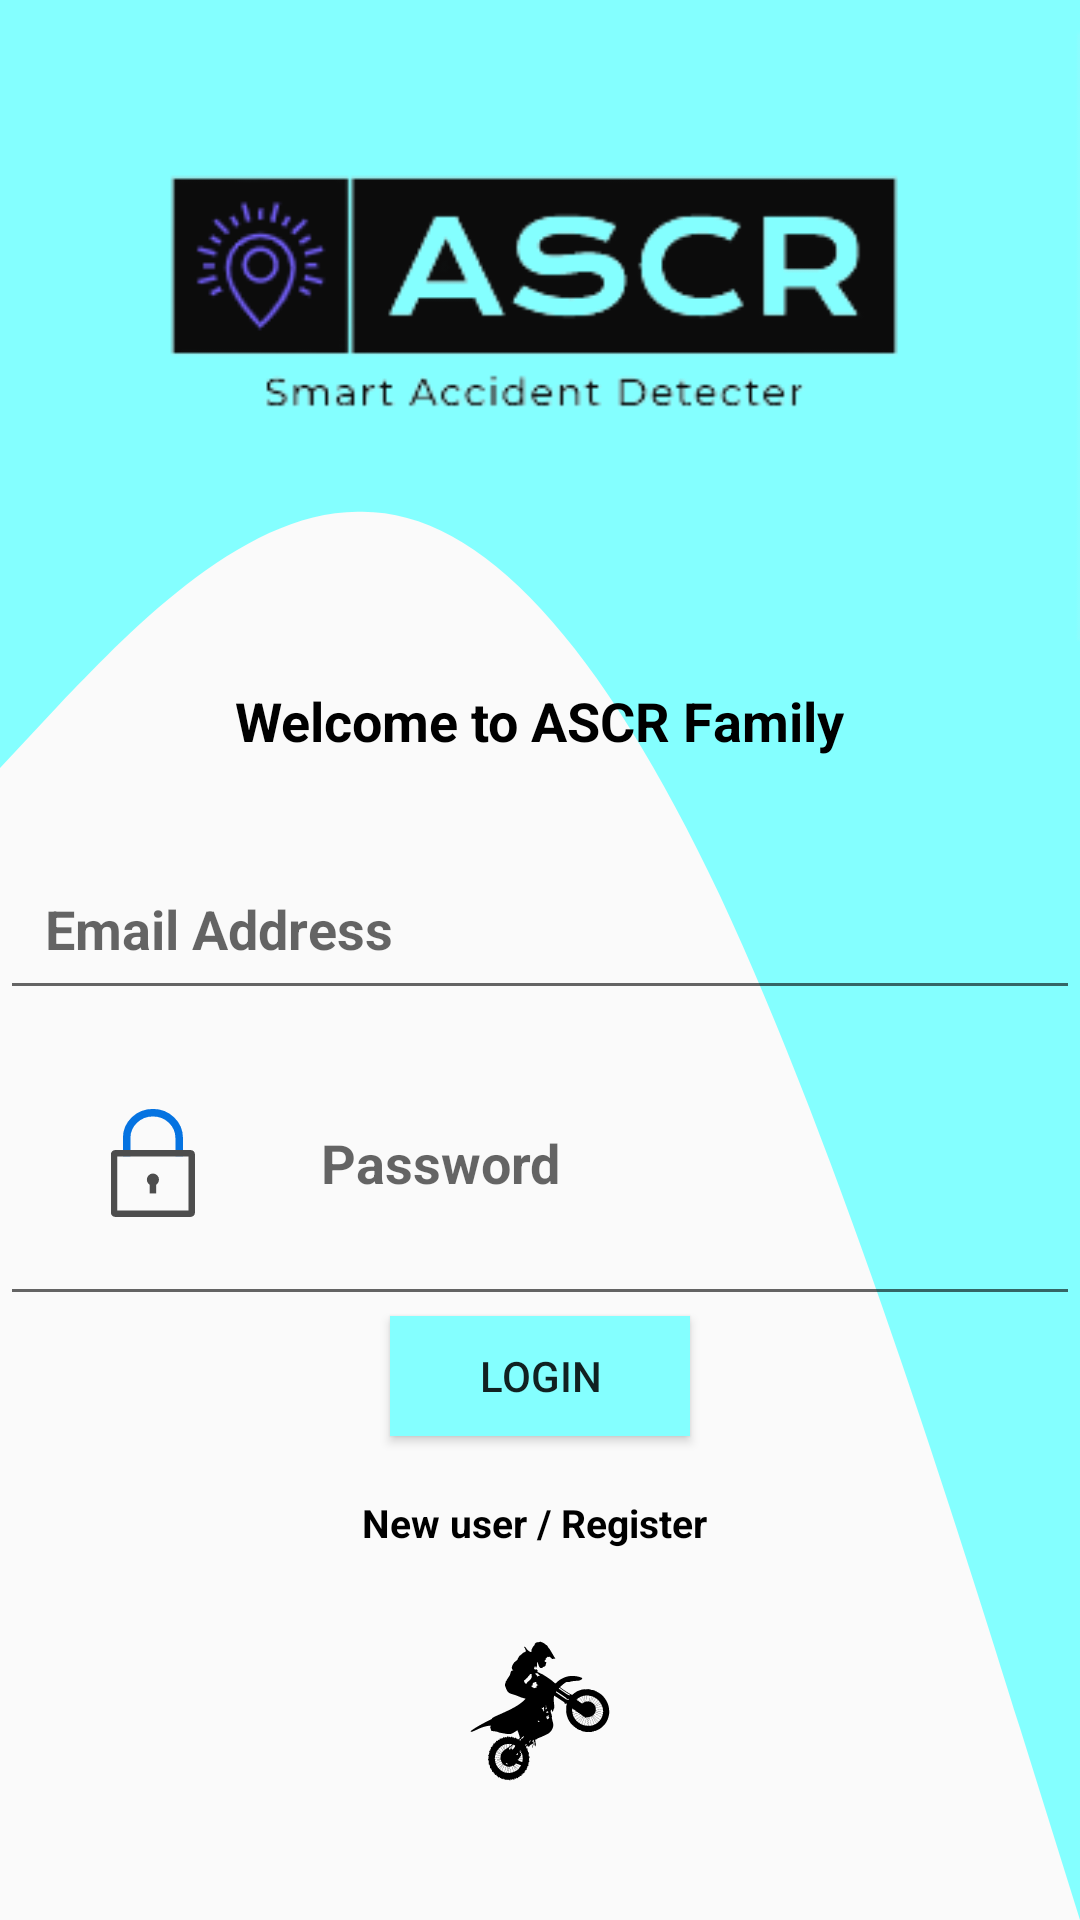

Screen size 1080 × 1920. Icon name, then its box in pixels as Rect(x1, y1, x2, y2):
motorcycle: Rect(470, 1641, 610, 1781)
